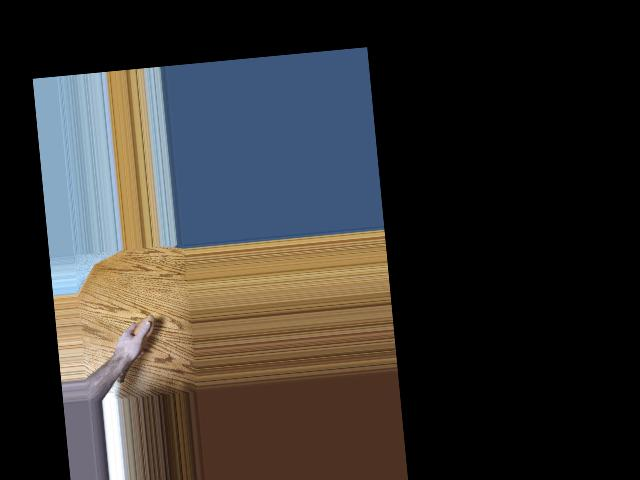sweet_potato: (109, 313, 160, 385)
